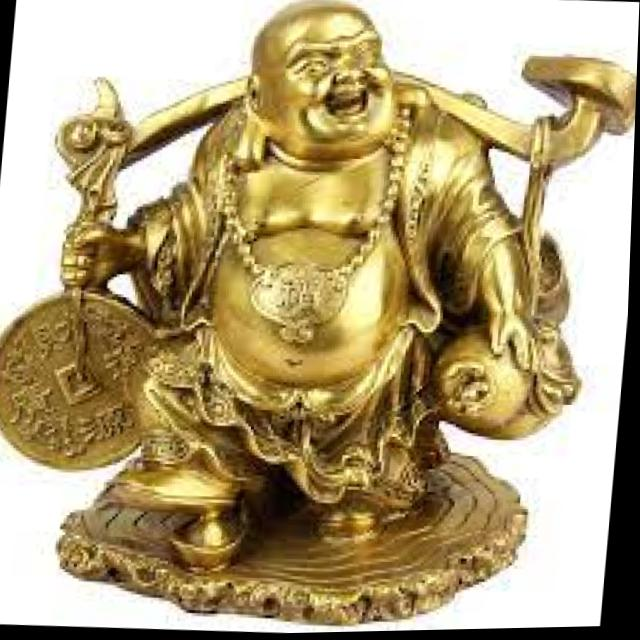Smiling Buddha: (113, 0, 528, 470)
